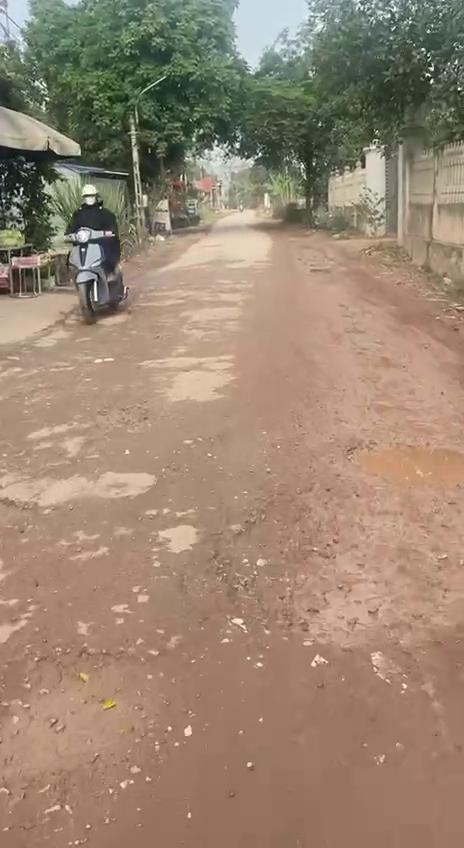pothole: (209, 511, 437, 656), (0, 644, 170, 792), (347, 438, 464, 490), (0, 496, 43, 554)
